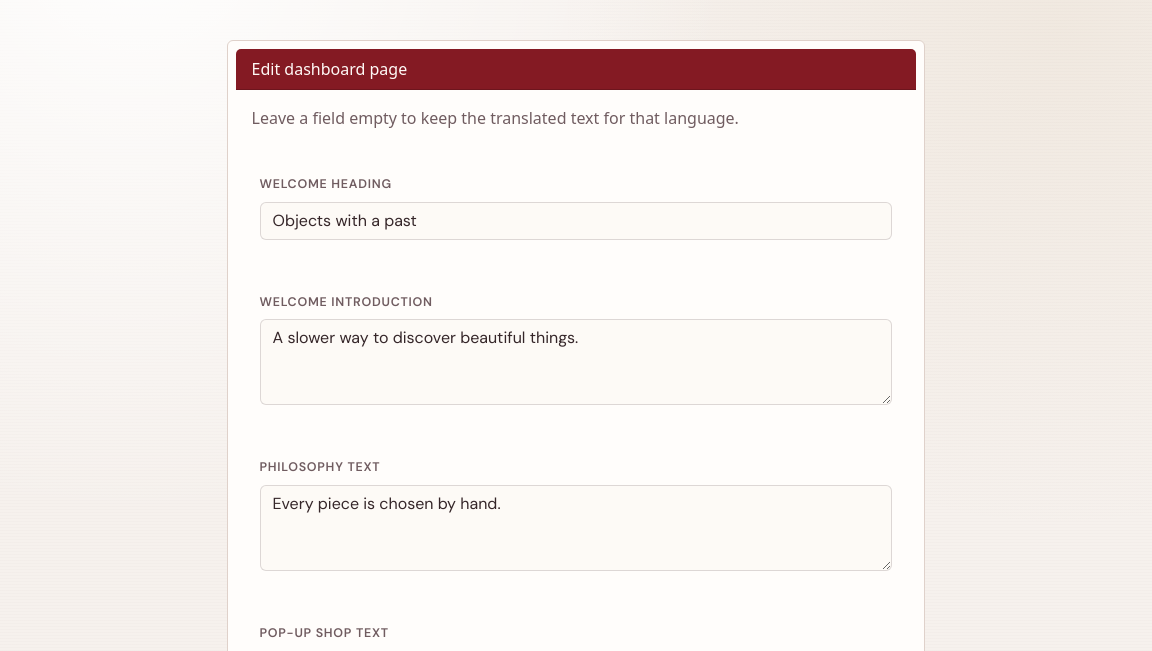
Dashboard page administration › saves edited copy and confirms it
The width and height of the screenshot is (1152, 651).
Replace the text in the field labelled "Welcome heading" with "Curated with curiosity" at (576, 221), box [260,202,892,240]
(page scrolled)
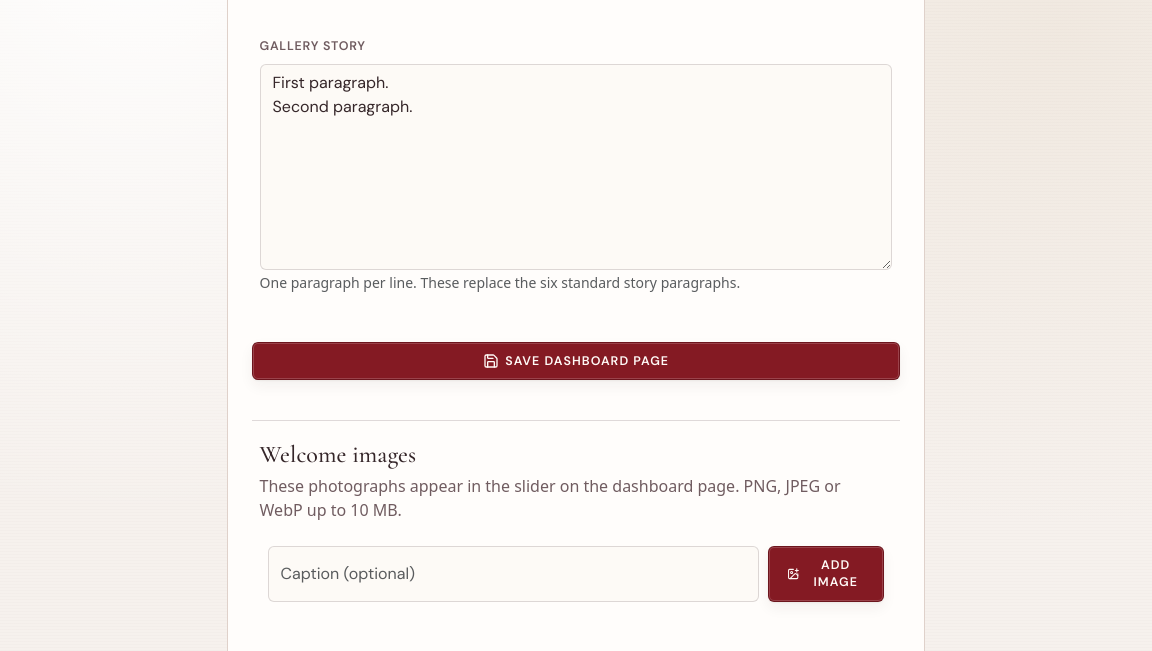
Click the button "Save dashboard page" at (576, 361), box [252,342,900,380]
(page scrolled)
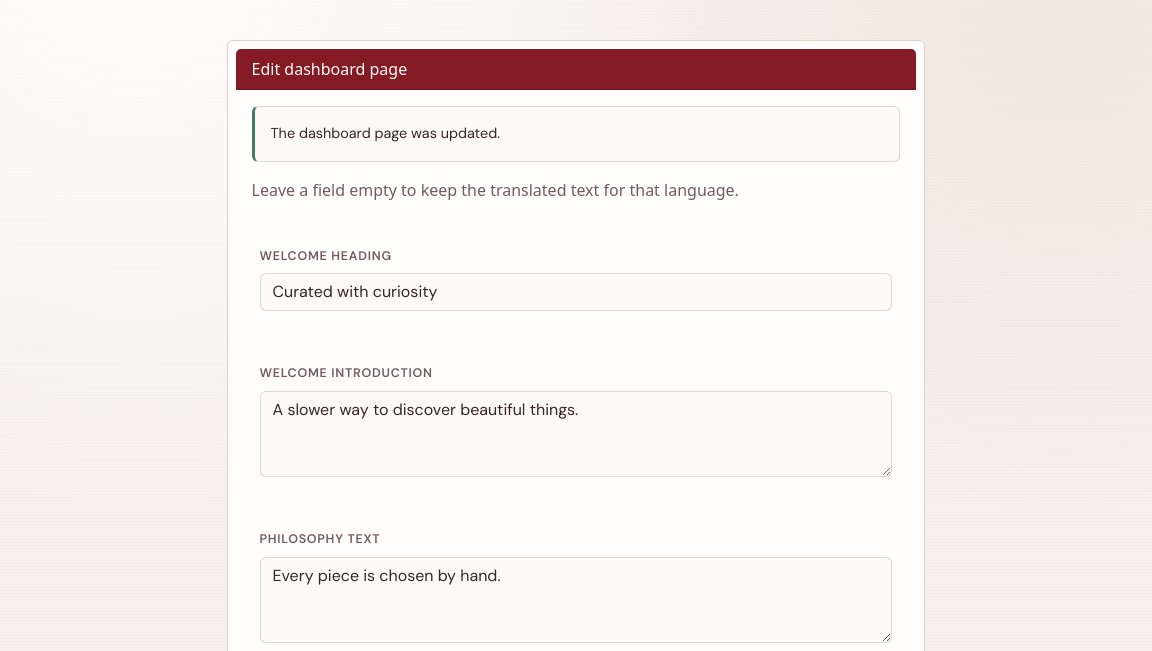
Expected: the text "The dashboard page was updated." is shown, [252,106,900,162]
